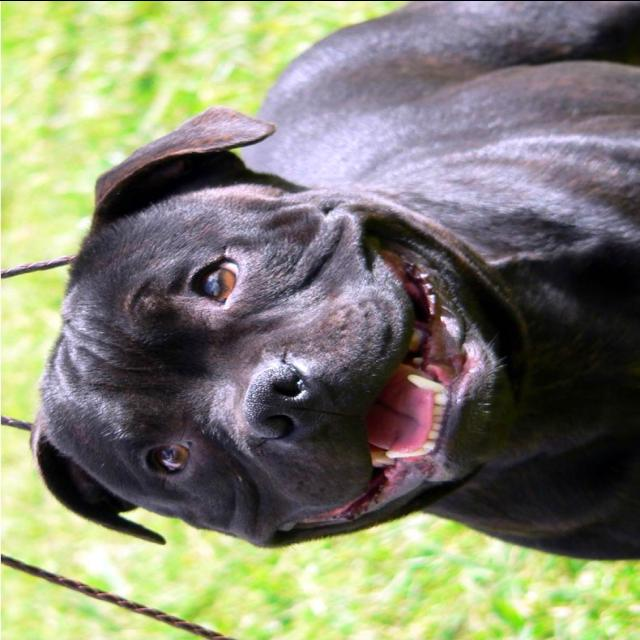staffordshire_bullterrier: (30, 2, 638, 564)
